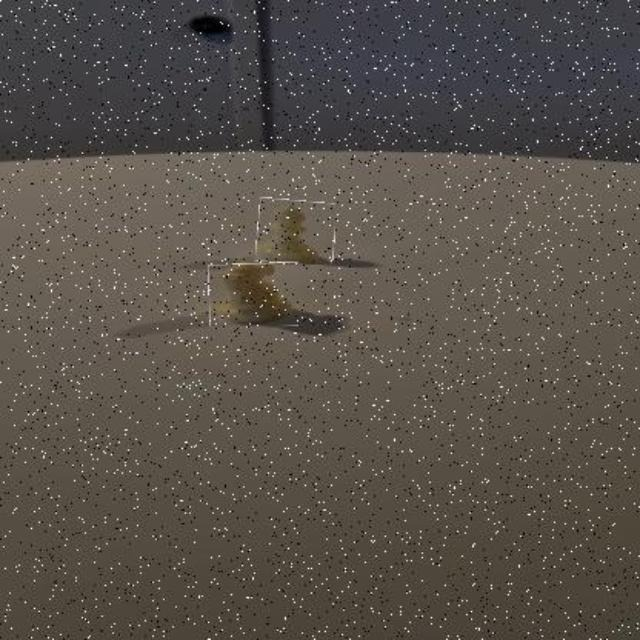white-bishop: (257, 199, 337, 265)
white-knight: (210, 263, 300, 327)
